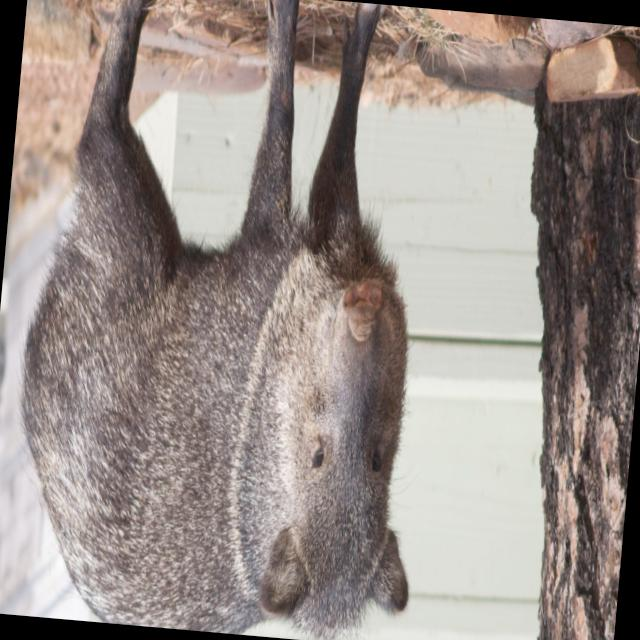pig: (19, 0, 411, 639)
